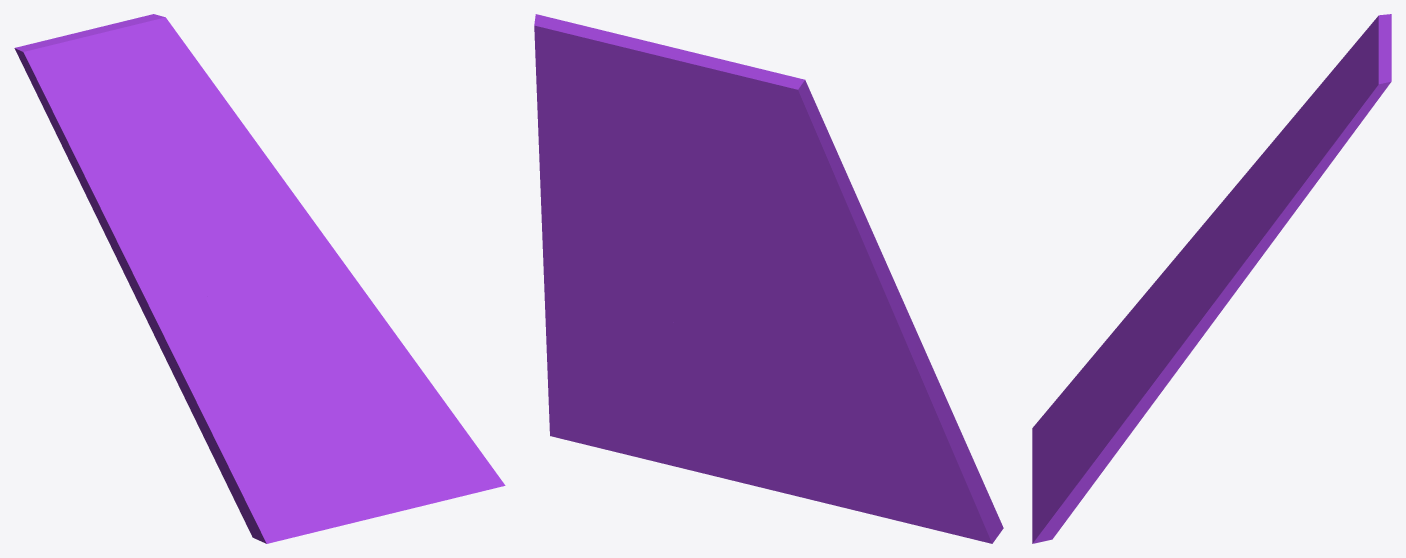
File: Window_86_chunks.fbx
3 renders of one model, left to right at view 1: azimuth 30°, elevation 25°; view 2: azimuth 150°, elevation 25°; view 3: azimuth 270°, elevation 25°, orthographic. The views are drawn at different scales.
Parts seen in each view (by area): view 1: Window_86_3, Window_86_4, Window_86_7, Window_86_6, Window_86_1, Window_86_8, Window_86_10, Window_86_12, Window_86_11; view 2: Window_86_3, Window_86_7, Window_86_4, Window_86_1, Window_86_6, Window_86_5, Window_86_10, Window_86_12, Window_86_0, Window_86_11, Window_86_8, Window_86_9 (+1 smaller); view 3: Window_86_4, Window_86_3, Window_86_10, Window_86_7, Window_86_6, Window_86_1, Window_86_12, Window_86_8, Window_86_11.
Boxes of the visible parts, x1=… form: Window_86_3: x1=190, y1=377, x2=432, y2=543; Window_86_4: x1=301, y1=308, x2=505, y2=503; Window_86_7: x1=14, y1=26, x2=161, y2=242; Window_86_6: x1=109, y1=156, x2=236, y2=335; Window_86_1: x1=154, y1=272, x2=309, y2=407; Window_86_8: x1=102, y1=16, x2=209, y2=158; Window_86_10: x1=258, y1=208, x2=412, y2=357; Window_86_12: x1=189, y1=50, x2=303, y2=219; Window_86_11: x1=216, y1=176, x2=266, y2=282; Window_86_3: x1=679, y1=378, x2=1003, y2=543; Window_86_7: x1=631, y1=43, x2=879, y2=270; Window_86_4: x1=545, y1=297, x2=732, y2=467; Window_86_1: x1=640, y1=278, x2=947, y2=423; Window_86_6: x1=629, y1=171, x2=918, y2=356; Window_86_5: x1=534, y1=19, x2=698, y2=175; Window_86_10: x1=541, y1=201, x2=693, y2=323; Window_86_12: x1=535, y1=65, x2=638, y2=217; Window_86_0: x1=608, y1=150, x2=740, y2=285; Window_86_11: x1=623, y1=191, x2=703, y2=281; Window_86_8: x1=535, y1=14, x2=653, y2=84; Window_86_9: x1=600, y1=211, x2=682, y2=272; Window_86_4: x1=1032, y1=329, x2=1173, y2=543; Window_86_3: x1=1032, y1=312, x2=1132, y2=508; Window_86_10: x1=1127, y1=255, x2=1246, y2=418; Window_86_7: x1=1249, y1=14, x2=1391, y2=169; Window_86_6: x1=1180, y1=157, x2=1290, y2=264; Window_86_1: x1=1130, y1=252, x2=1207, y2=359; Window_86_12: x1=1236, y1=116, x2=1358, y2=277; Window_86_8: x1=1285, y1=54, x2=1391, y2=185; Window_86_11: x1=1198, y1=201, x2=1270, y2=282.
Size of the model in its own units: 818 by 960 by 824.
